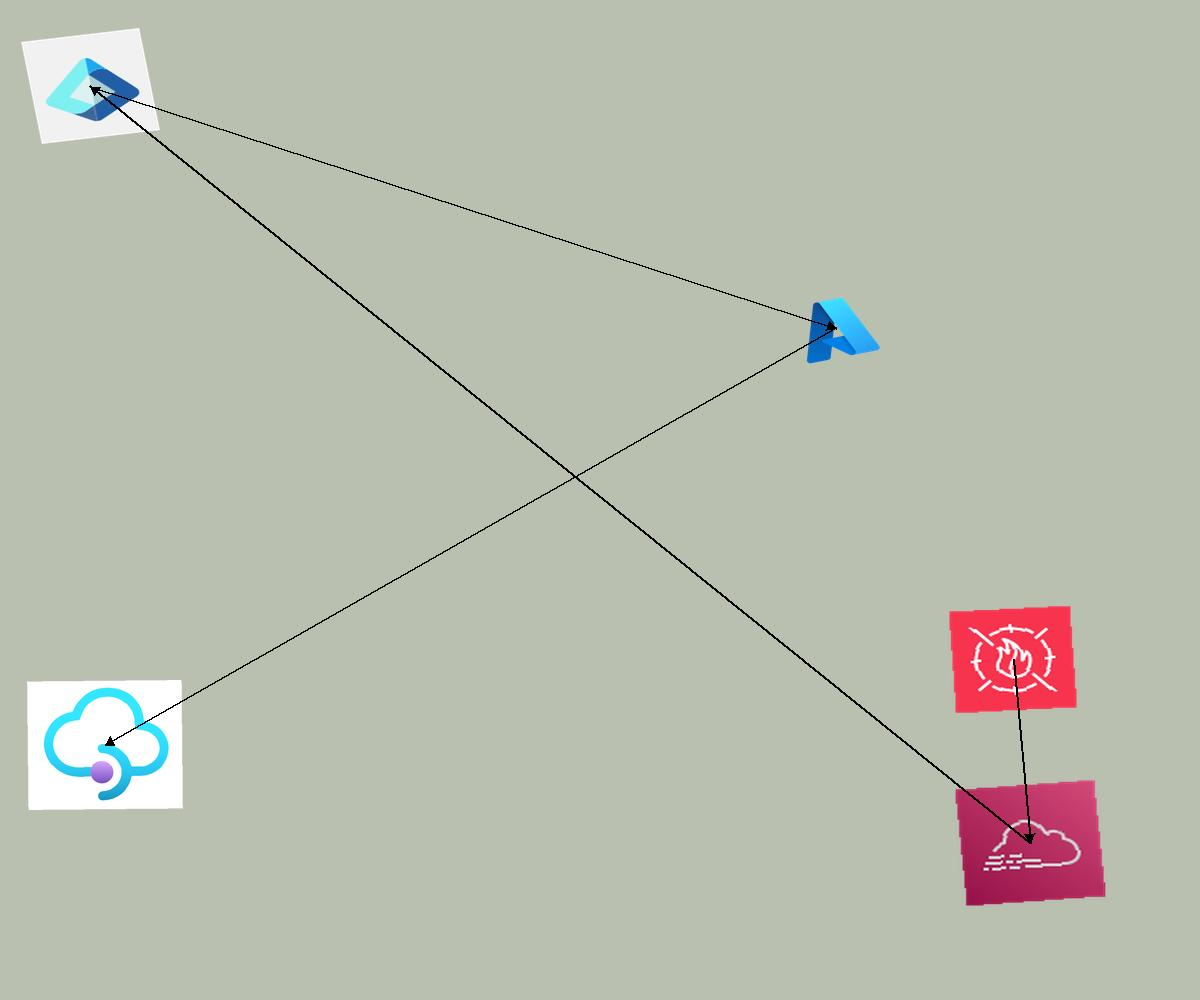AWS-CloudTrail: (954, 779, 1107, 907)
AWS-WAF: (948, 605, 1078, 714)
Azure_api_gateway: (27, 680, 183, 810)
Azure_microsoft_entra: (21, 28, 160, 144)
Azure_services: (787, 288, 885, 369)
